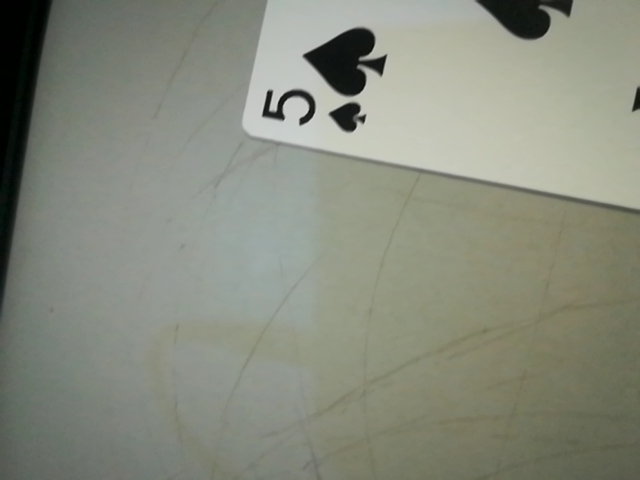ht 5: (244, 68, 389, 148)
